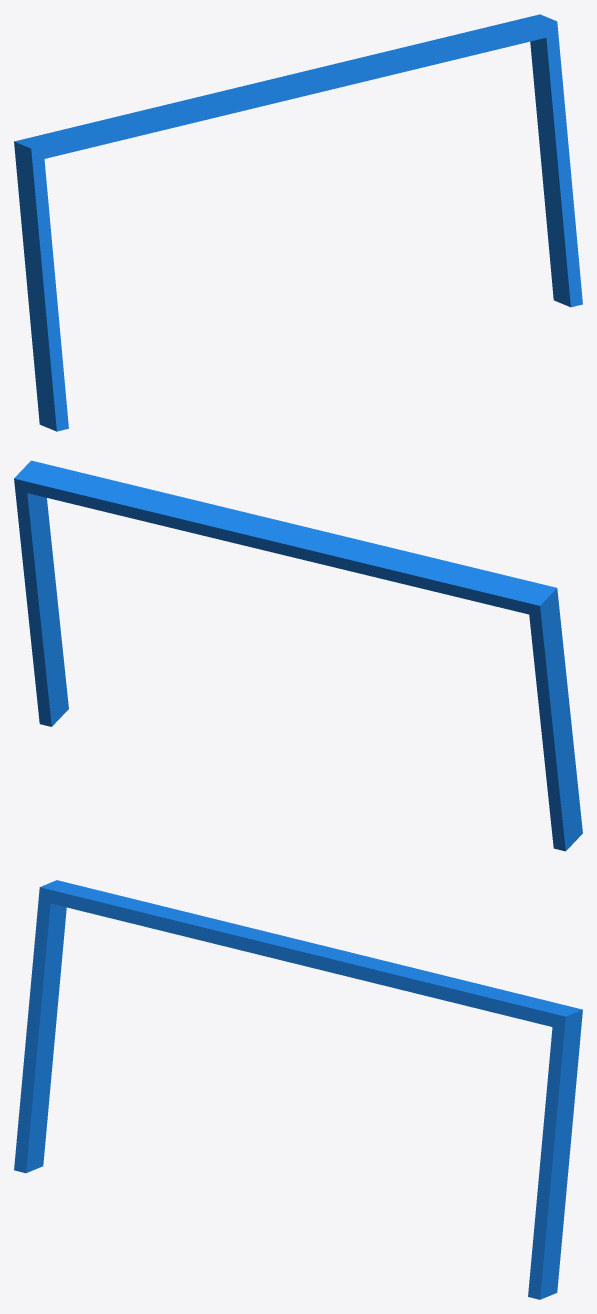
The model's file is original-33.obj.
3 views of the same model, one above another, from view 1: azimuth 30°, elevation 25°; view 2: azimuth 150°, elevation 25°; view 3: azimuth 330°, elevation 25° (orthographic).
Visible parts, largest first — view 1: Group19/mesh107/mesh107-geometry#mesh107-geometry; view 2: Group19/mesh107/mesh107-geometry#mesh107-geometry; view 3: Group19/mesh107/mesh107-geometry#mesh107-geometry.
Part boxes in pixels (<box>): Group19/mesh107/mesh107-geometry#mesh107-geometry: <box>14,14,582,431</box>; Group19/mesh107/mesh107-geometry#mesh107-geometry: <box>14,460,582,851</box>; Group19/mesh107/mesh107-geometry#mesh107-geometry: <box>14,880,582,1299</box>.
Bounding box in the file's own units: 0.1579 × 0.0777 × 0.0224.
